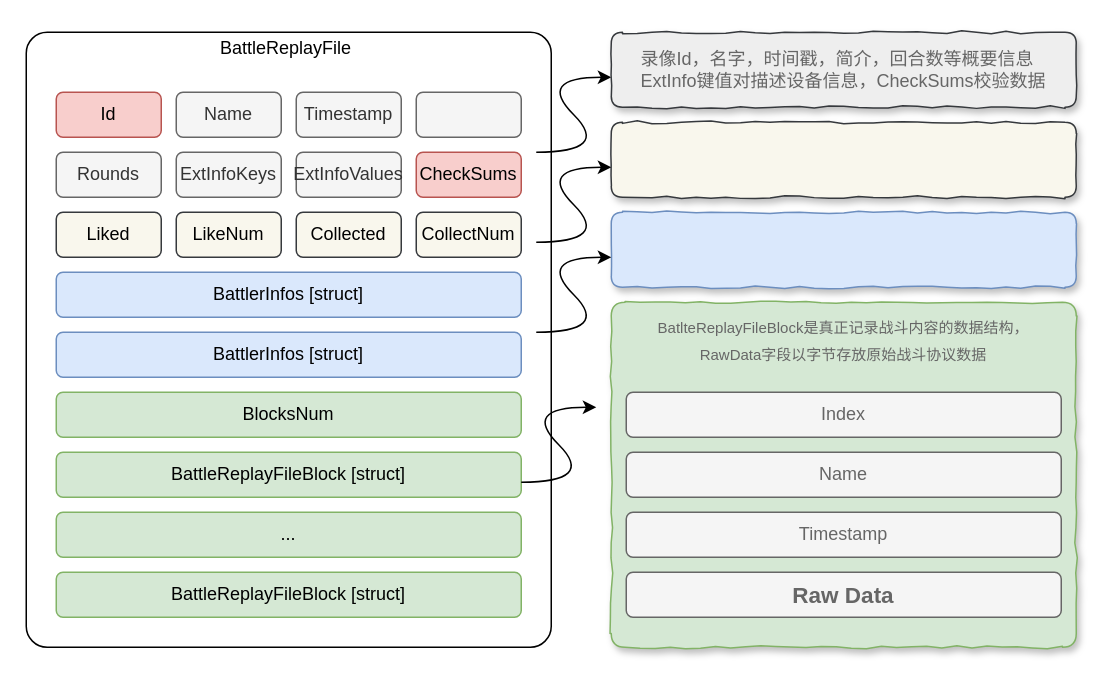
Image size: 1112x684. Some labels were removed from this diagram. The centre of each missing label's shape, as x and y in pixels:
"Desc" goes at pixel 468 114.
"双方参战人员概要信息" goes at pixel 844 251.
"点赞，收藏等录像大厅业务信息" goes at pixel 844 161.
